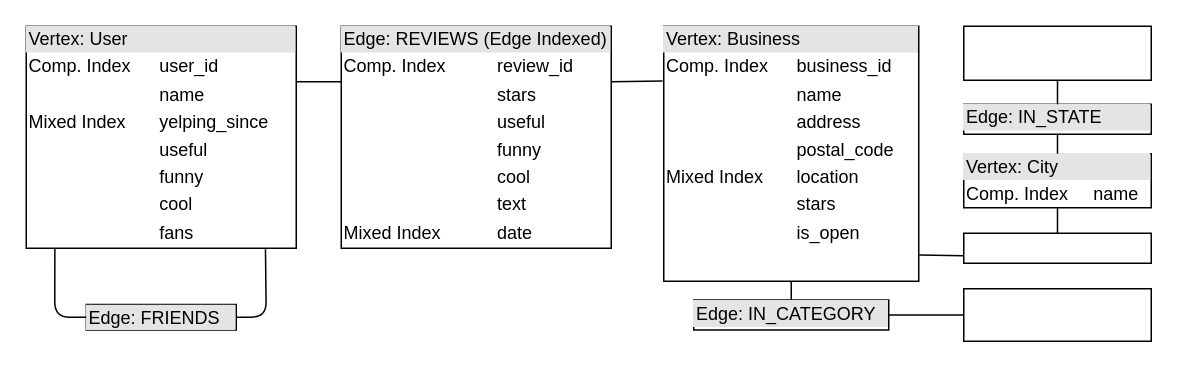
Image size: 1178x368. Some labels were removed from this diagram. The centre of each missing label's shape, as x and y in pixels:
Edge: IN_CITY: (x=1056, y=247)
Vertex: Category Comp. Index name: (x=1056, y=314)
Vertex: State Comp. Index name: (x=1056, y=52)
